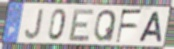0: (48, 8, 68, 41)
A: (137, 11, 163, 44)
E: (67, 8, 96, 42)
F: (115, 8, 143, 44)
J: (24, 8, 45, 41)
Q: (93, 9, 118, 43)
